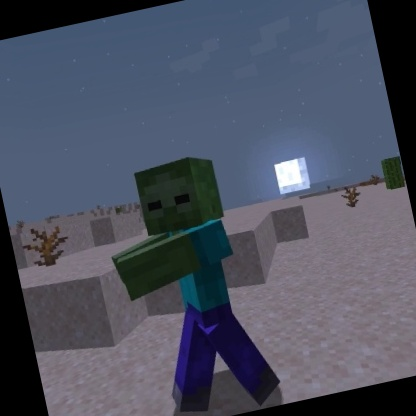zombie: (88, 142, 290, 416)
